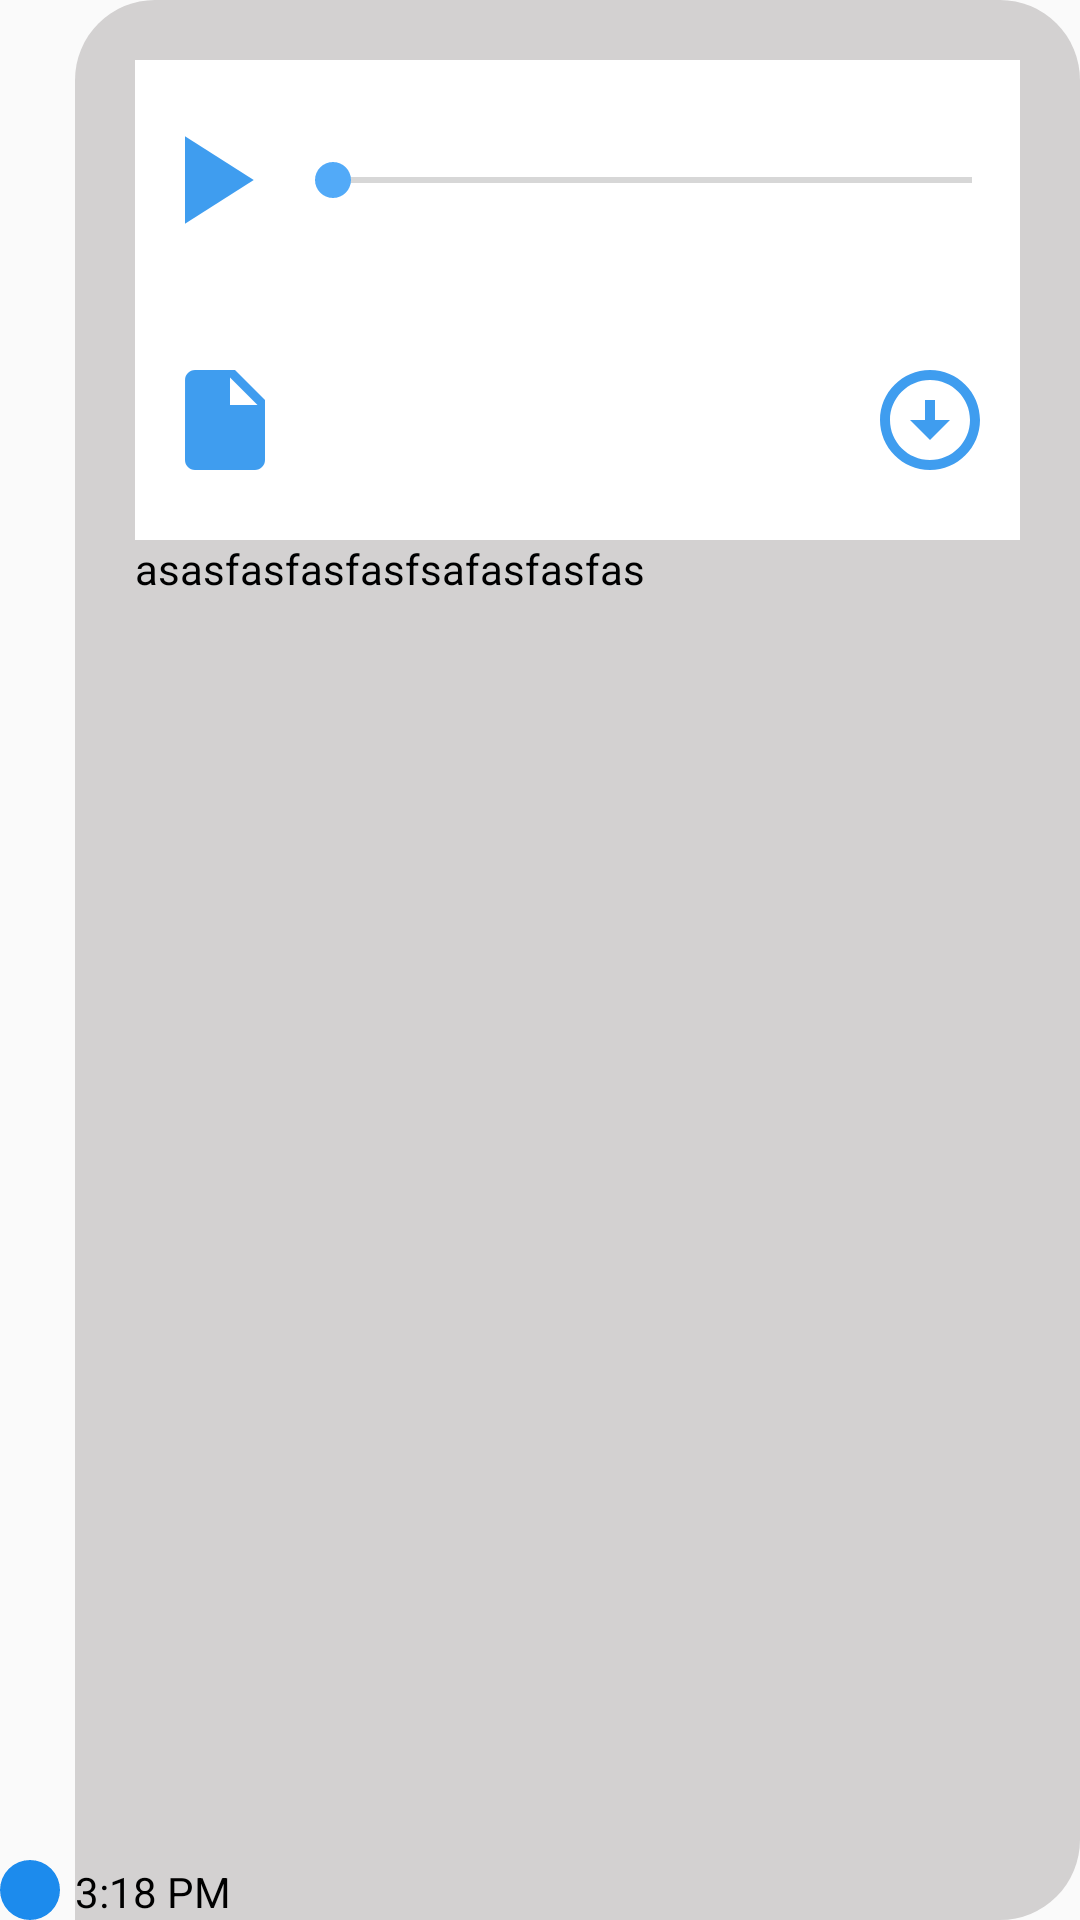

Icon click points for this 1080×1920 phone screenshot, format [x,y]:
arrow circle down: [930,420]
insert drive file: [225,420]
play arrow: [219,180]
